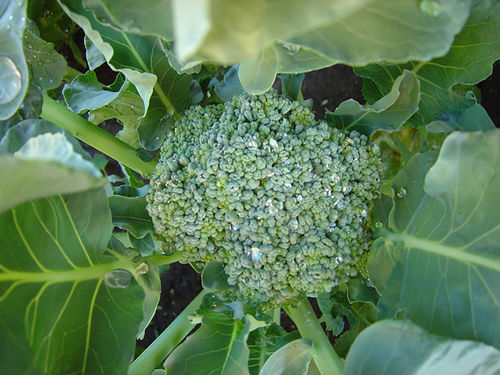broccoli: (144, 89, 382, 301)
